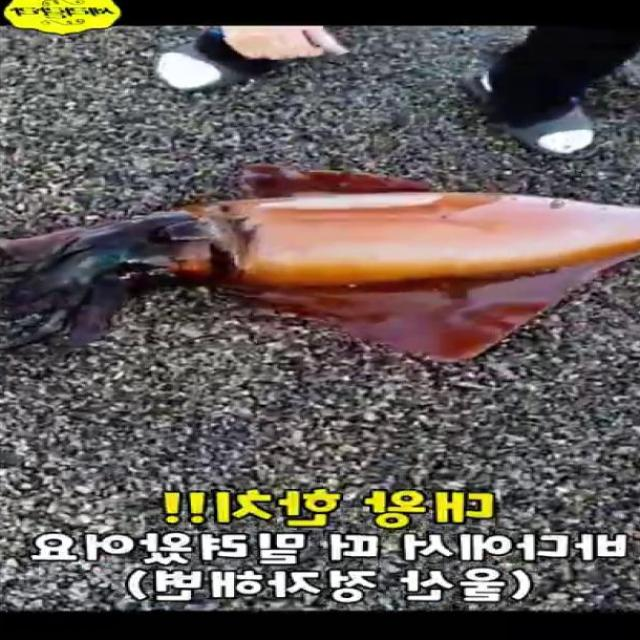SQUID: (0, 154, 640, 362)
